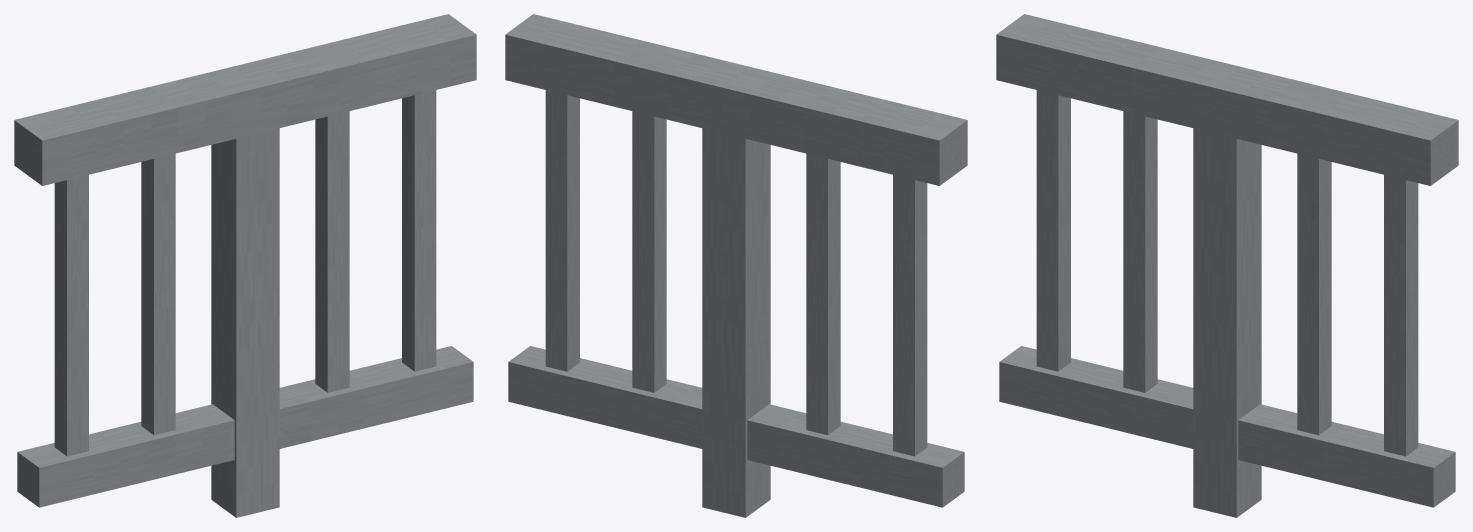
File: level.obj
3 renders of one model, left to right at view 1: azimuth 30°, elevation 25°; view 2: azimuth 150°, elevation 25°; view 3: azimuth 330°, elevation 25°, orthographic.
Parts seen in each view (by area): view 1: railing_picket_grey_level; view 2: railing_picket_grey_level; view 3: railing_picket_grey_level.
Boxes of the visible parts, left/top/right/bottom form: railing_picket_grey_level: left=14, top=14, right=476, bottom=517; railing_picket_grey_level: left=505, top=14, right=967, bottom=517; railing_picket_grey_level: left=996, top=14, right=1458, bottom=517.
Size of the model in its own units: 1 by 0.9375 by 0.1125.
